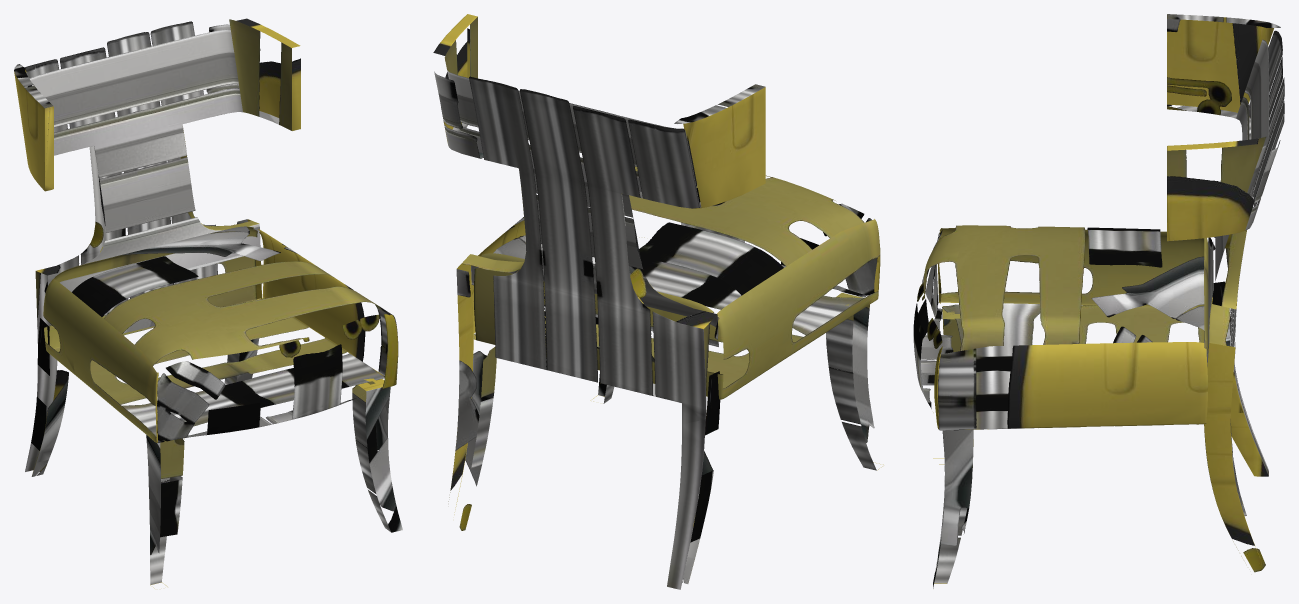
File: raw_model.obj
The picture shows the model from 3 angles, left to right: view 1: azimuth 30°, elevation 25°; view 2: azimuth 150°, elevation 25°; view 3: azimuth 270°, elevation 25°; orthographic projection. The views are drawn at different scales.
Parts seen in each view (by area): view 1: solid_001, solid_002; view 2: solid_001, solid_002; view 3: solid_002, solid_001.
Part boxes in pixels (x1,y1,x2,y2): solid_001: [14, 18, 402, 588]; solid_002: [43, 226, 398, 442]; solid_001: [433, 14, 883, 589]; solid_002: [471, 166, 880, 399]; solid_002: [913, 225, 1208, 430]; solid_001: [933, 14, 1284, 588].
Size of the model in its own units: 0.5282 by 0.7964 by 0.6057.
